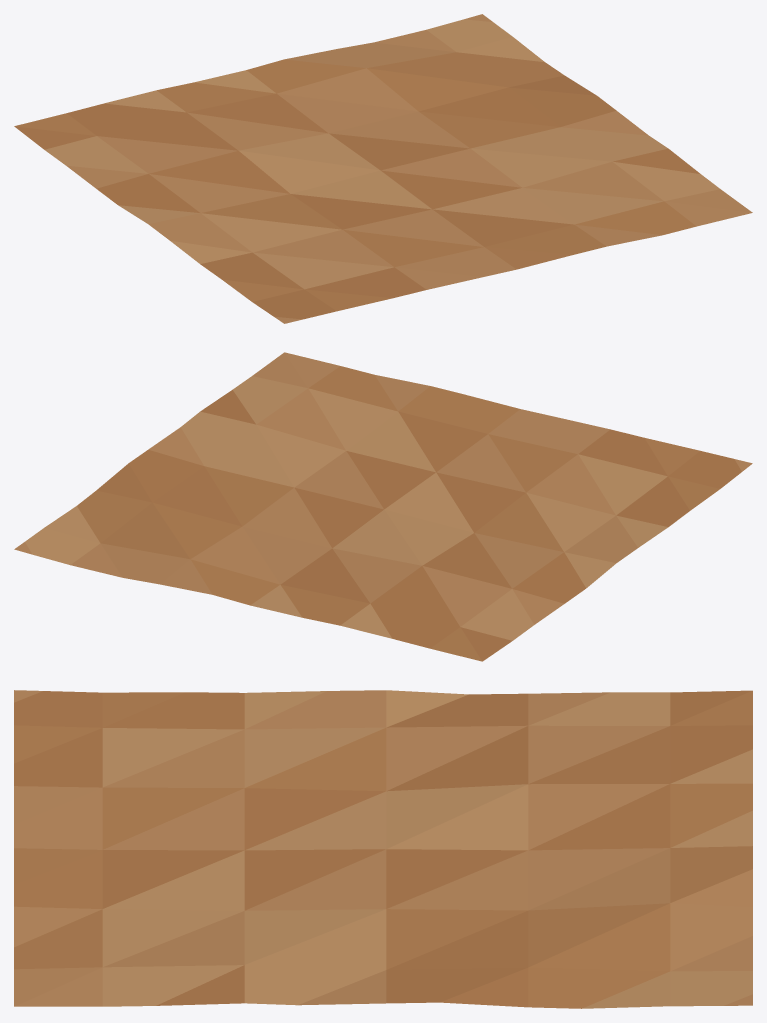
The picture shows the model from 3 angles, top to bottom: view 1: azimuth 30°, elevation 25°; view 2: azimuth 150°, elevation 25°; view 3: azimuth 270°, elevation 25°; orthographic projection. The views are drawn at different scales.
Parts seen in each view (by area): view 1: baked; view 2: baked; view 3: baked.
Part boxes in pixels (<box>): baked: <box>14,14,752,323</box>; baked: <box>14,352,752,661</box>; baked: <box>14,690,752,1008</box>.
Bounding box in the file's own units: 62.5 × 0.7617 × 62.5.
